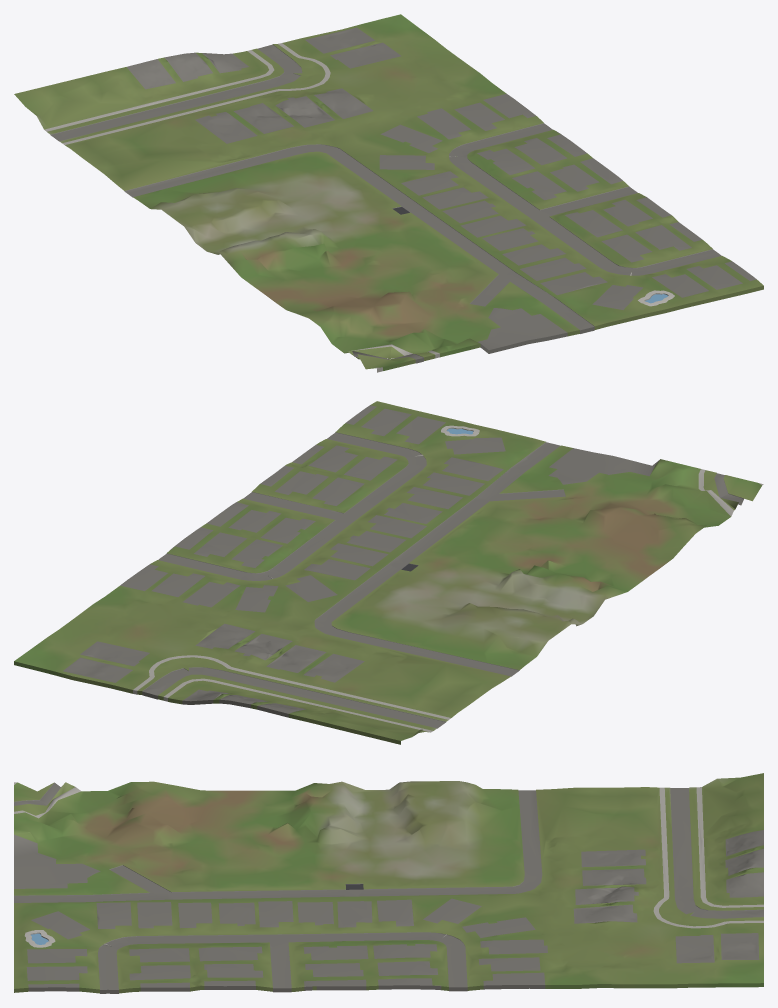
3 views of the same model, one above another, from view 1: azimuth 30°, elevation 25°; view 2: azimuth 150°, elevation 25°; view 3: azimuth 270°, elevation 25° (orthographic). The views are drawn at different scales.
Visible parts, largest first — view 1: T--4-2.L2:utd:matte; view 2: T--4-2.L2:utd:matte; view 3: T--4-2.L2:utd:matte.
Boxes of the visible parts, x1,y1,x2,y2 form: T--4-2.L2:utd:matte: (14, 14, 763, 372); T--4-2.L2:utd:matte: (14, 401, 763, 744); T--4-2.L2:utd:matte: (14, 773, 763, 993).
Size of the model in its own units: 157 by 9.81 by 256.
